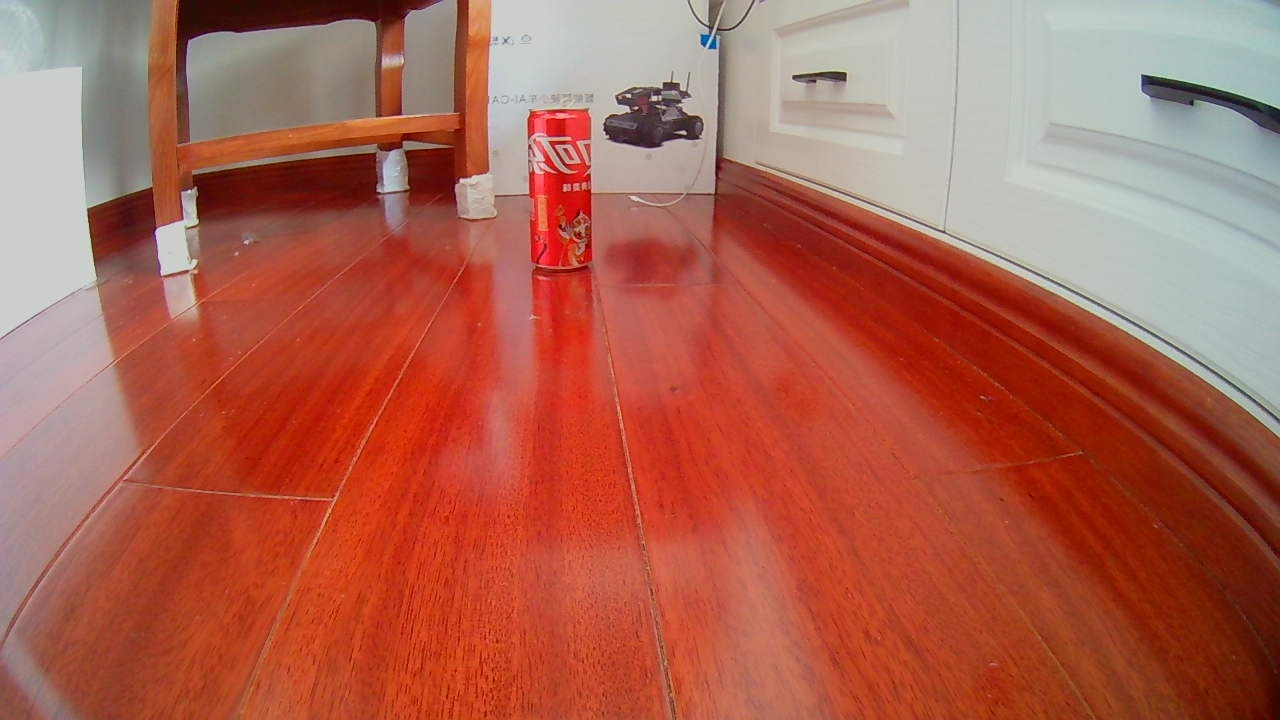cola: (527, 112, 591, 267)
